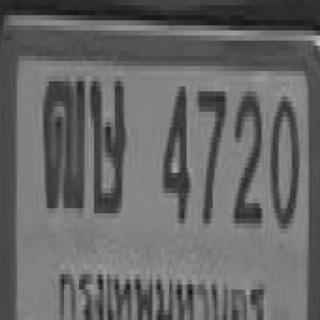A18: (41, 71, 83, 208)
A39: (88, 74, 124, 211)
N00: (269, 92, 297, 224)
N02: (232, 86, 260, 218)
N04: (160, 81, 188, 218)
N07: (196, 86, 224, 218)
